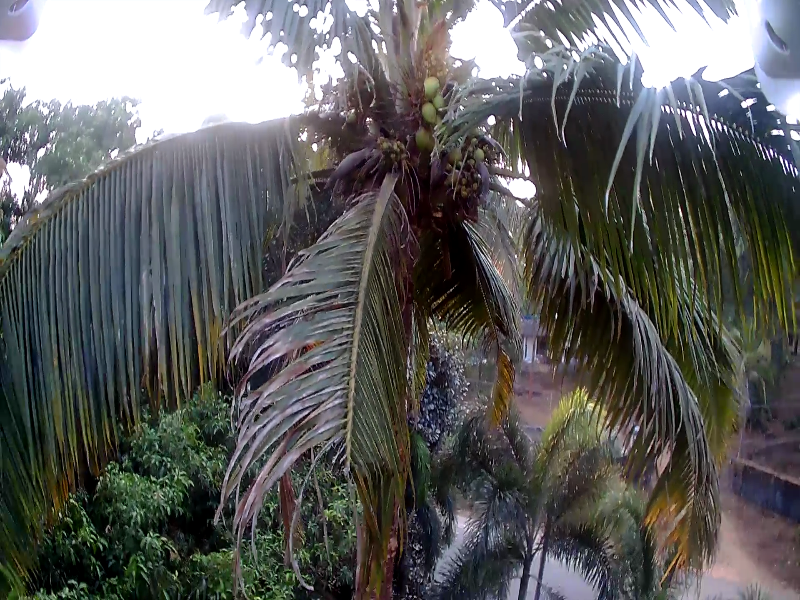coconut: (411, 127, 431, 151), (382, 138, 406, 158), (456, 173, 475, 196), (420, 101, 435, 119), (423, 73, 436, 93), (444, 147, 459, 160), (475, 147, 483, 159)
